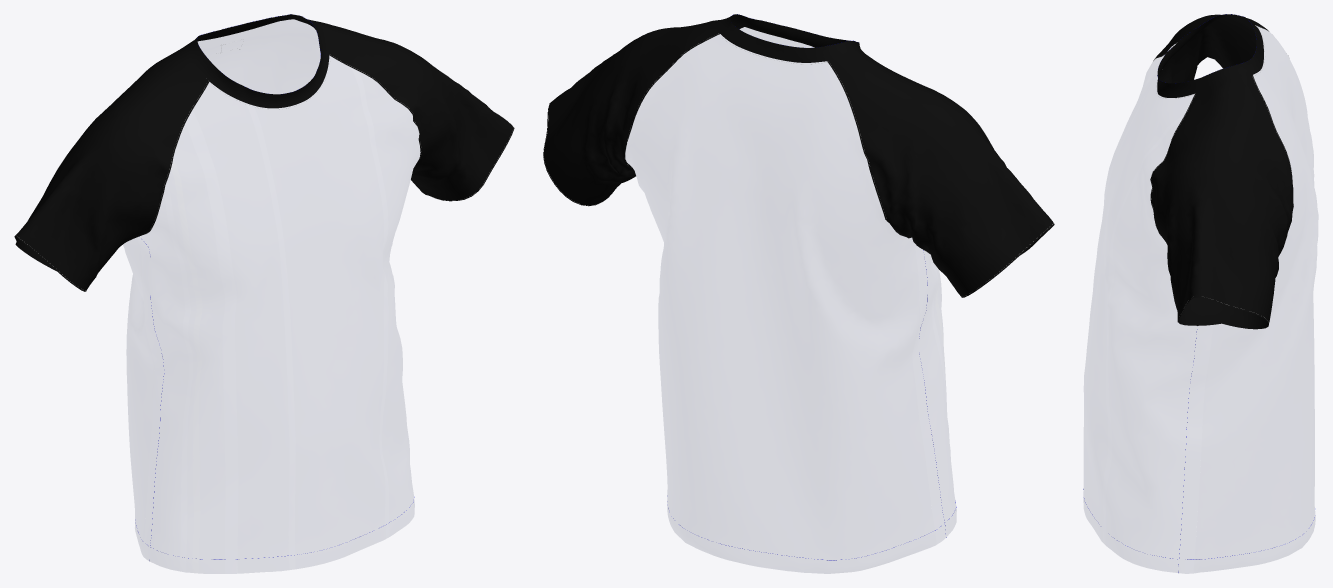
File: shirt.glb
3 renders of one model, left to right at view 1: azimuth 30°, elevation 25°; view 2: azimuth 150°, elevation 25°; view 3: azimuth 270°, elevation 25°, orthographic. The views are drawn at different scales.
Visible parts, largest first — view 1: BodyFront, Sleeves_3_Node001_77, Sleeves_2_Node001_76, Body_Back_Node001_71, Pattern_233998_Node001_75; view 2: Body_Back_Node001_71, Sleeves_3_Node001_77, Sleeves_2_Node001_76, BodyFront, Pattern_233998_Node001_75; view 3: BodyFront, Body_Back_Node001_71, Sleeves_2_Node001_76, Sleeves_3_Node001_77, Pattern_233998_Node001_75.
Boxes of the visible parts, x1,y1,x2,y2 form: BodyFront: [136, 55, 420, 573]; Sleeves_3_Node001_77: [14, 46, 209, 291]; Sleeves_2_Node001_76: [295, 19, 514, 201]; Body_Back_Node001_71: [123, 19, 320, 556]; Pattern_233998_Node001_75: [184, 14, 329, 108]; Body_Back_Node001_71: [625, 34, 936, 573]; Sleeves_3_Node001_77: [827, 52, 1054, 297]; Sleeves_2_Node001_76: [543, 19, 744, 206]; BodyFront: [739, 27, 956, 544]; Pattern_233998_Node001_75: [717, 14, 863, 62]; BodyFront: [1083, 43, 1212, 573]; Body_Back_Node001_71: [1193, 25, 1318, 573]; Sleeves_2_Node001_76: [1150, 75, 1293, 329]; Sleeves_3_Node001_77: [1153, 14, 1268, 83]; Pattern_233998_Node001_75: [1157, 14, 1263, 97].
Bounding box in the file's own units: 0.6858 × 0.6502 × 0.2894.
Materials: 6 (3 with a texture image).
